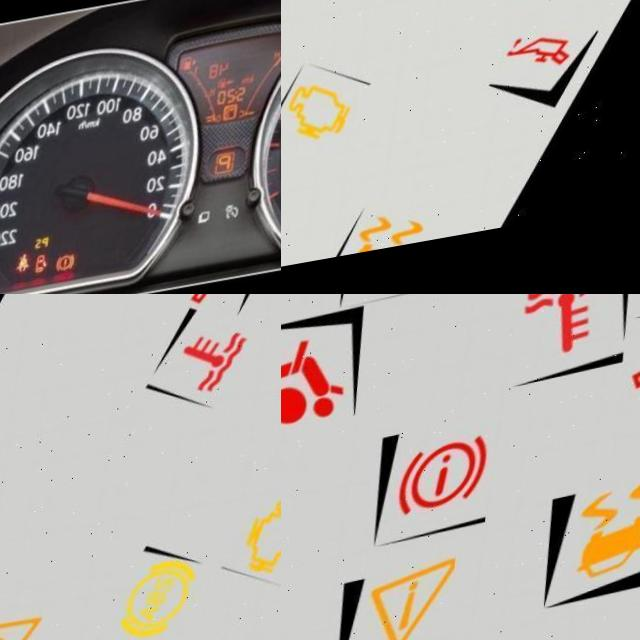Seat Belt: (29, 257, 43, 279)
